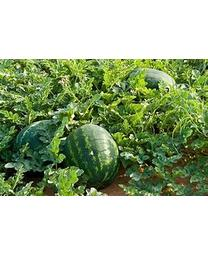watermelon: (64, 124, 123, 190)
